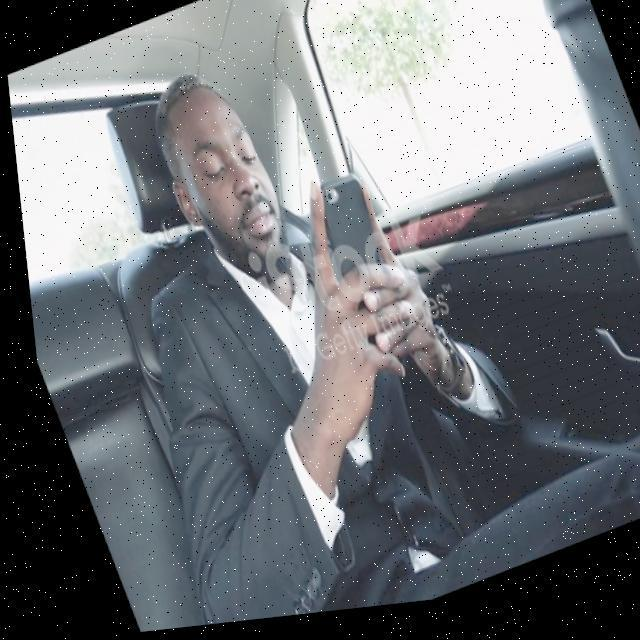PhoneCall: (295, 167, 398, 331)
